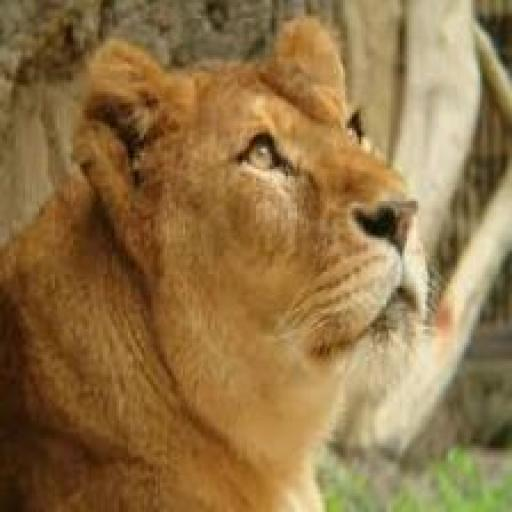lion: (16, 14, 441, 504)
